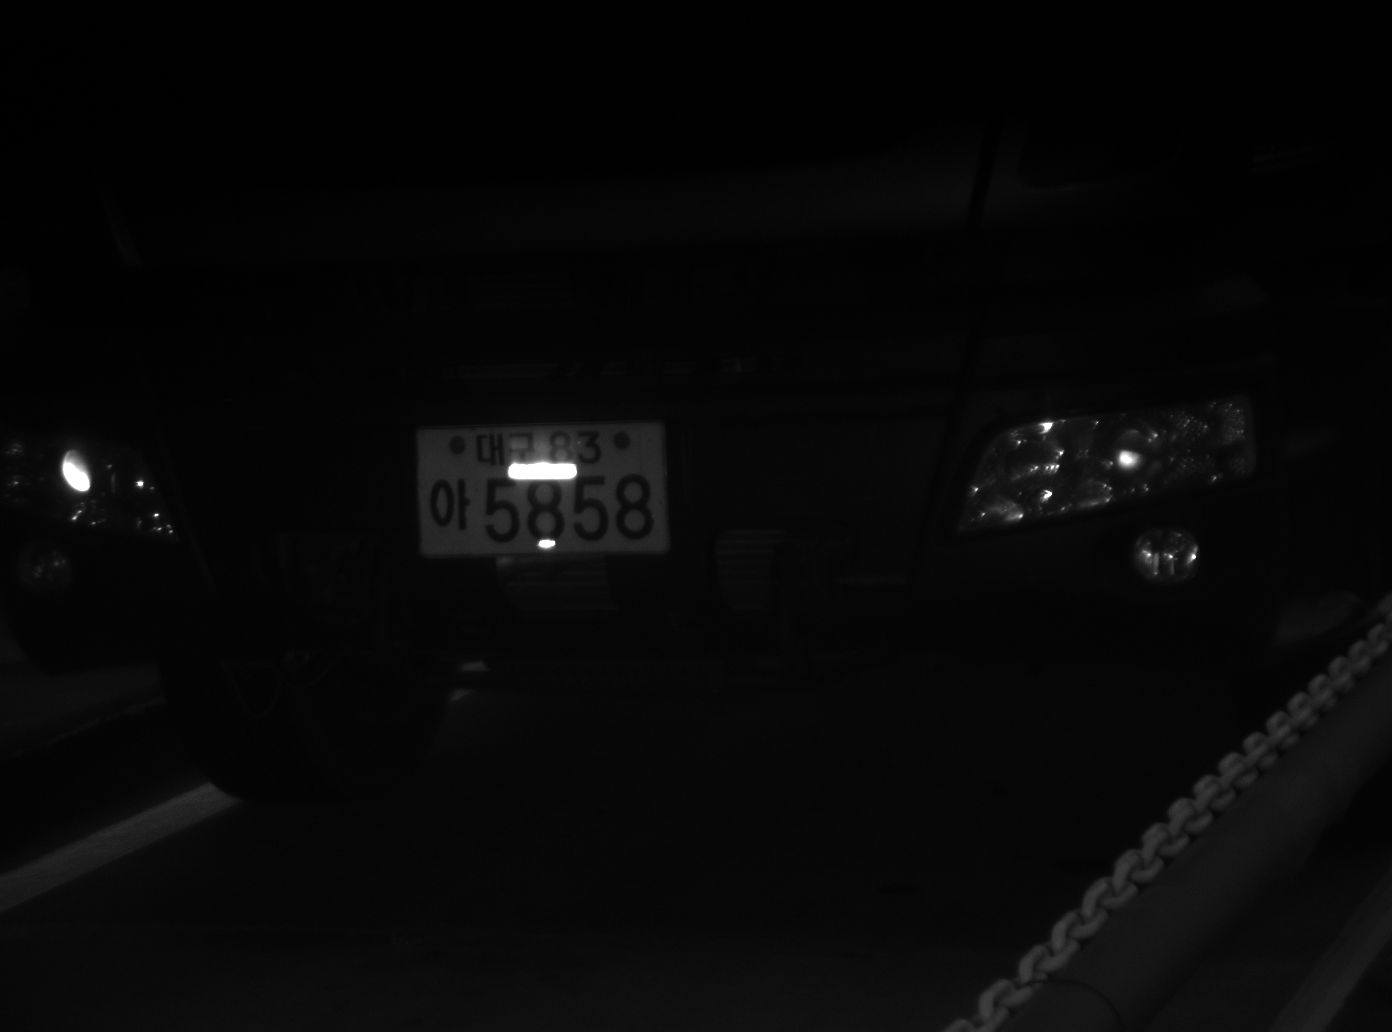car: (1, 1, 1386, 811)
plate: (412, 424, 670, 556)
